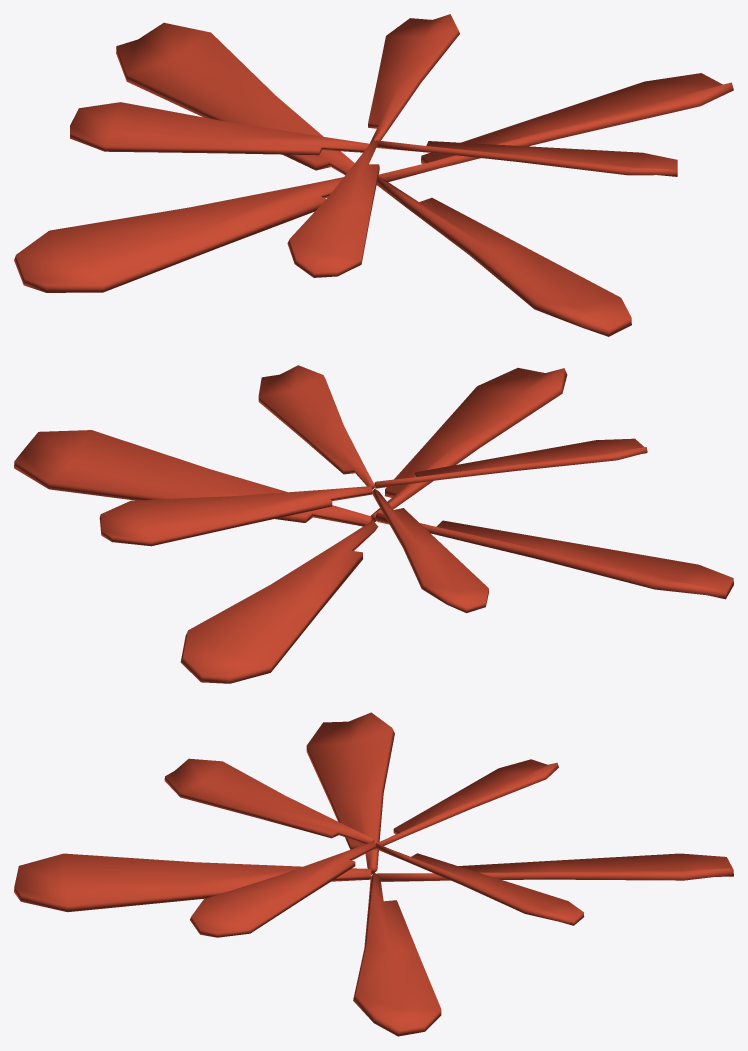
Rendered from propeller2.fbx.
3 renders of one model, top to bottom at view 1: azimuth 30°, elevation 25°; view 2: azimuth 150°, elevation 25°; view 3: azimuth 270°, elevation 25°, orthographic. The views are drawn at different scales.
Visible parts, largest first — view 1: propeller2.001; view 2: propeller2.001; view 3: propeller2.001.
Boxes of the visible parts, x1,y1,x2,y2 form: propeller2.001: (14,14,733,336); propeller2.001: (14,365,733,683); propeller2.001: (14,712,733,1036).
Size of the model in its own units: 1.55 by 1.55 by 0.1308.
